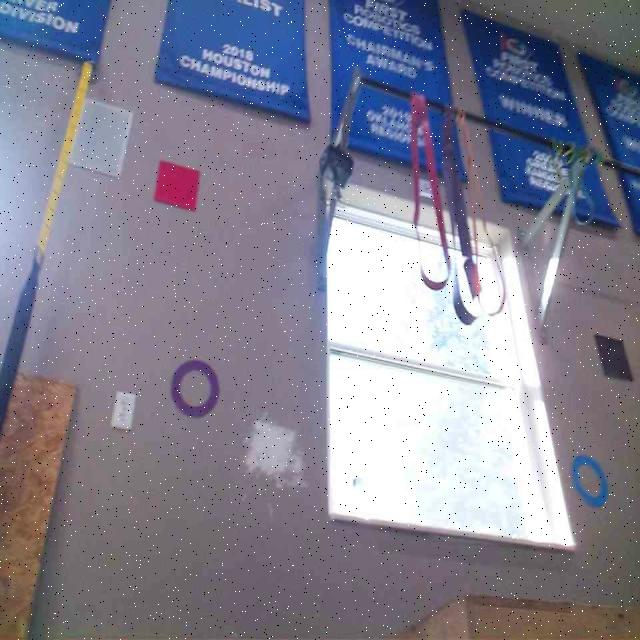ring_blue: (570, 452, 608, 507)
ring_purple: (170, 357, 219, 416)
square_black: (593, 332, 633, 380)
square_red: (150, 160, 198, 208)
